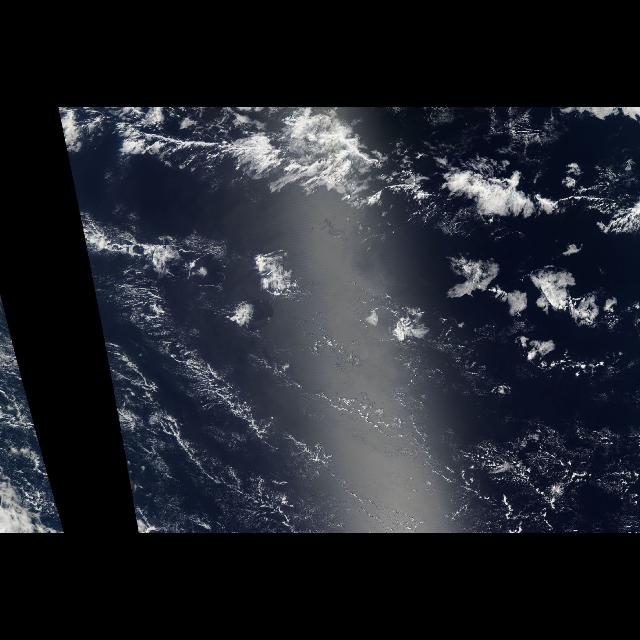Sugar: (115, 310, 373, 524)
